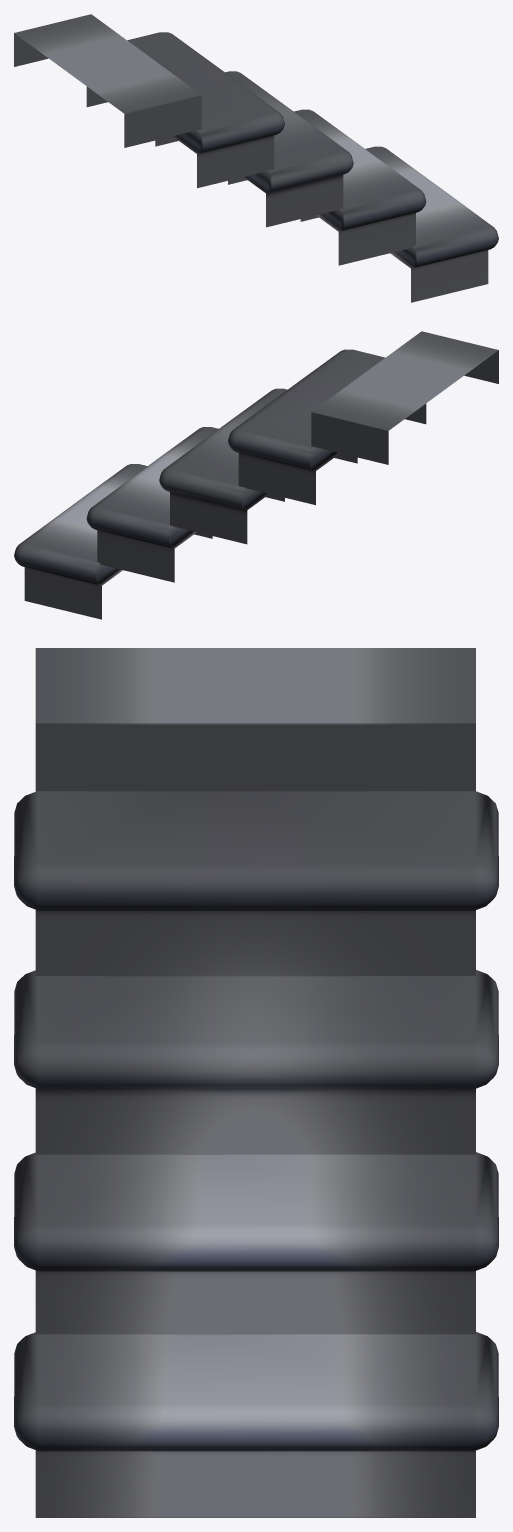
File: stairs-up.obj
The picture shows the model from 3 angles, top to bottom: view 1: azimuth 30°, elevation 25°; view 2: azimuth 150°, elevation 25°; view 3: azimuth 270°, elevation 25°; orthographic projection. The views are drawn at different scales.
Visible parts, largest first — view 1: pCube24; view 2: pCube24; view 3: pCube24.
Part boxes in pixels (x1,y1,x2,y2): pCube24: (14, 14, 498, 302); pCube24: (14, 331, 498, 619); pCube24: (14, 648, 498, 1517).
Bounding box in the file's own units: 73.56 × 48.59 × 41.39.
Materials: 1 (1 with a texture image).
